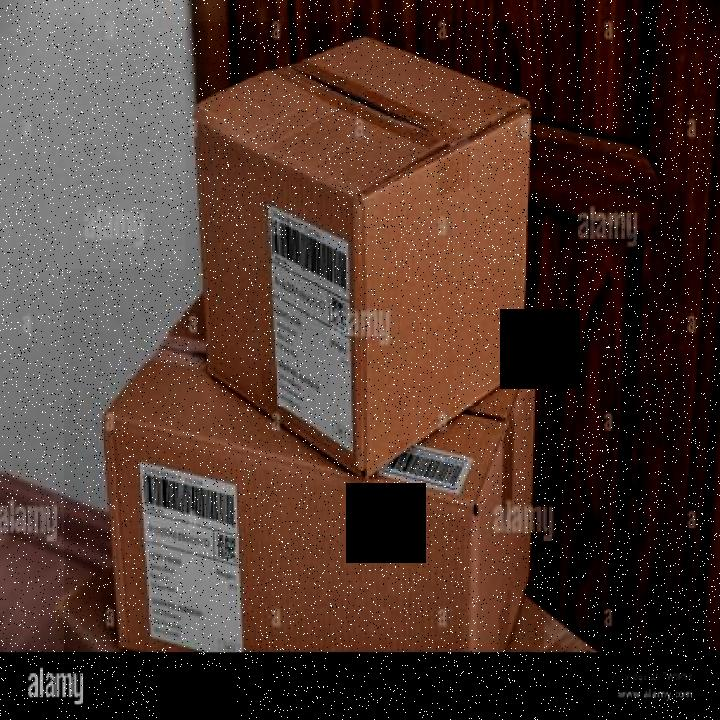box: (64, 269, 544, 653), (185, 22, 537, 483)
